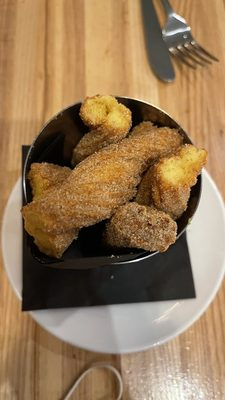burger: (151, 0, 219, 69)
sandwich: (143, 1, 176, 84)
